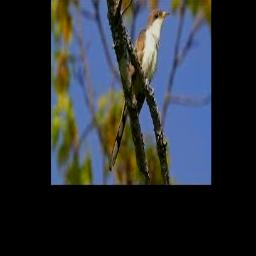Cuckoo: (110, 9, 171, 171)
